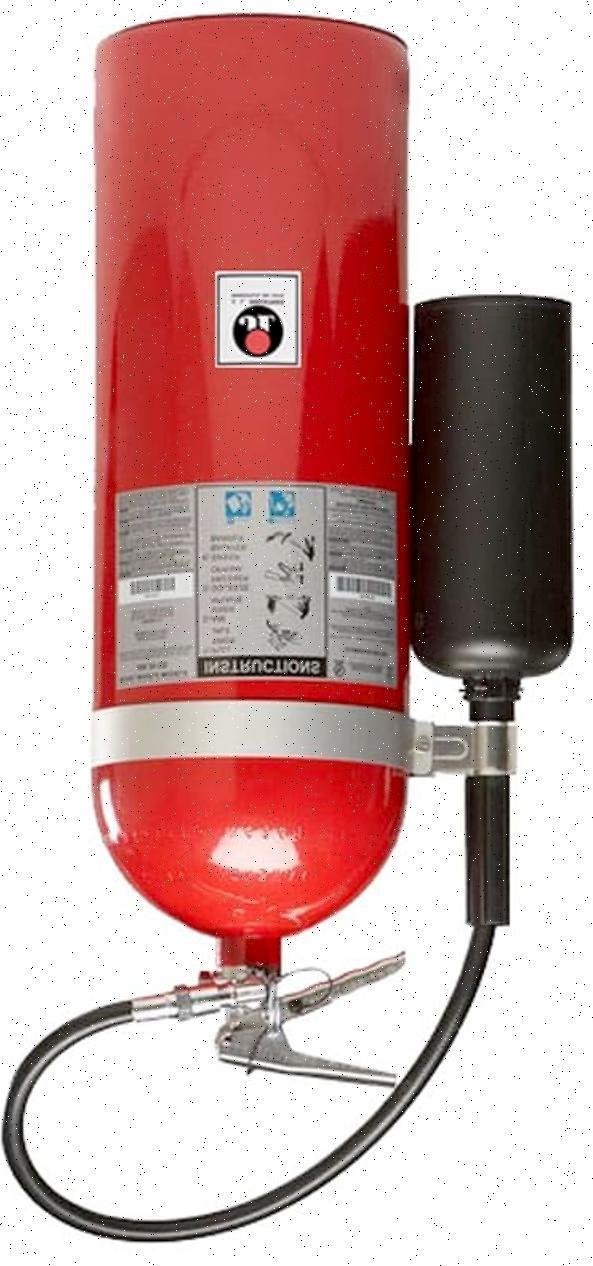Fire Extinguisher: (7, 10, 593, 1253)
